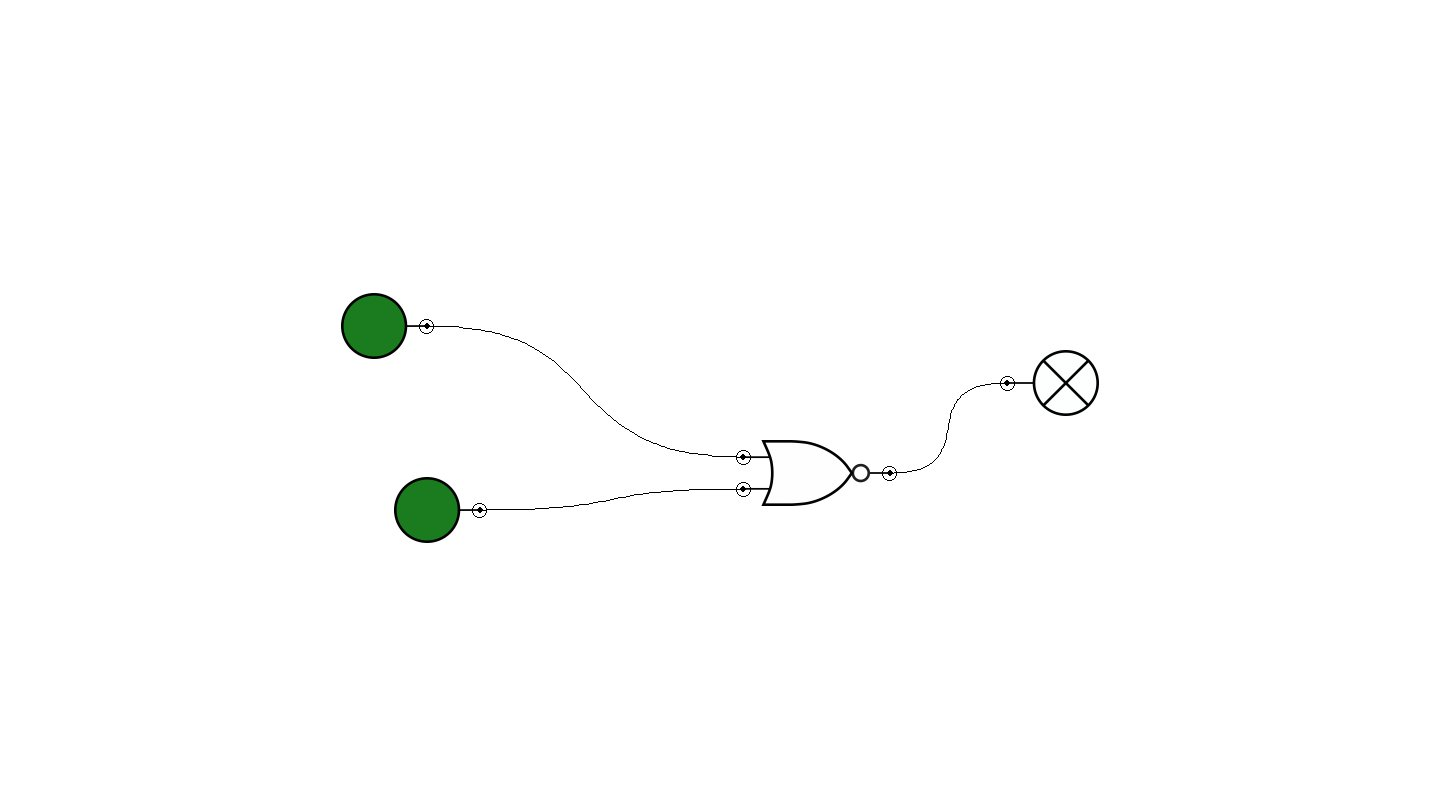bulb: (1000, 350, 1099, 416)
nor: (736, 440, 897, 506)
switch_True: (394, 477, 487, 543), (341, 293, 434, 359)
